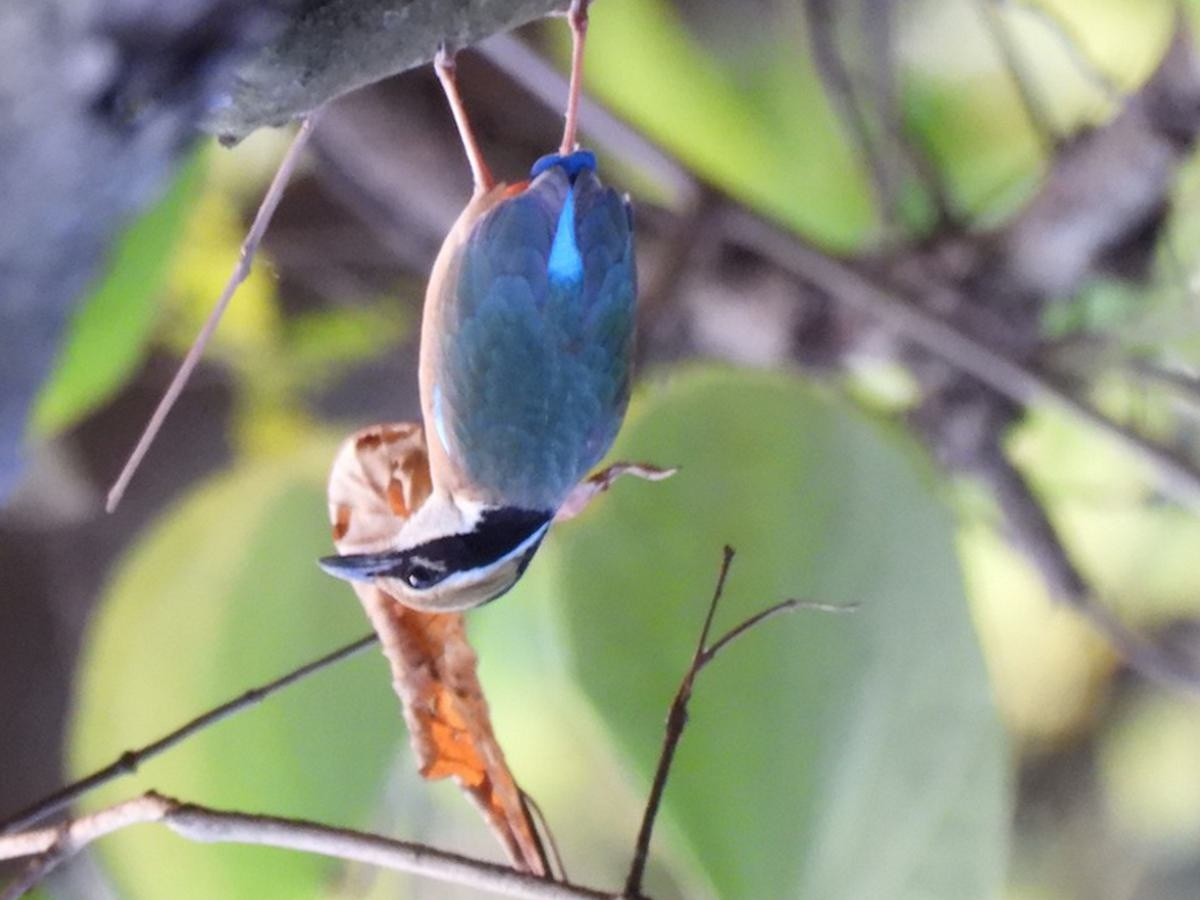pitta: (317, 1, 659, 633)
